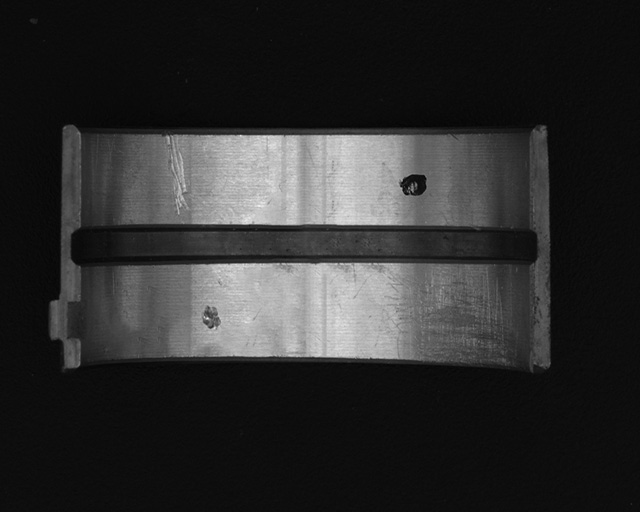blot: (397, 173, 429, 197)
bruise: (199, 303, 223, 331)
gap: (69, 223, 541, 269)
nick: (163, 131, 192, 215)
scratch: (367, 261, 523, 370)
